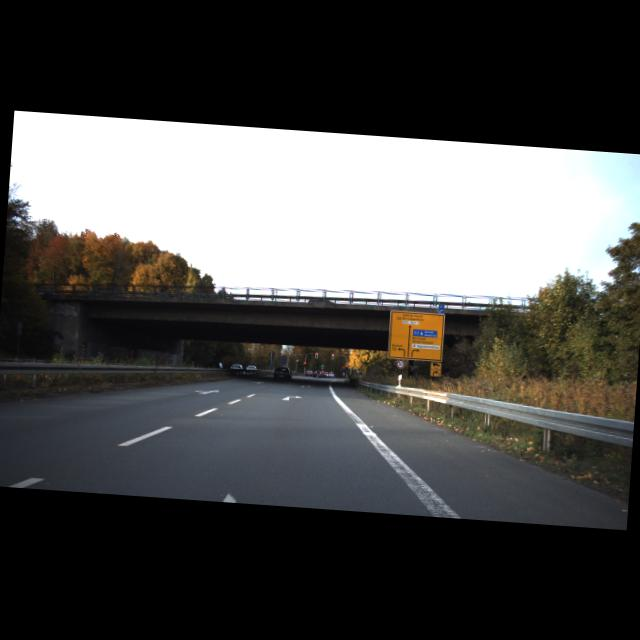prohibitory: (394, 358, 404, 368)
